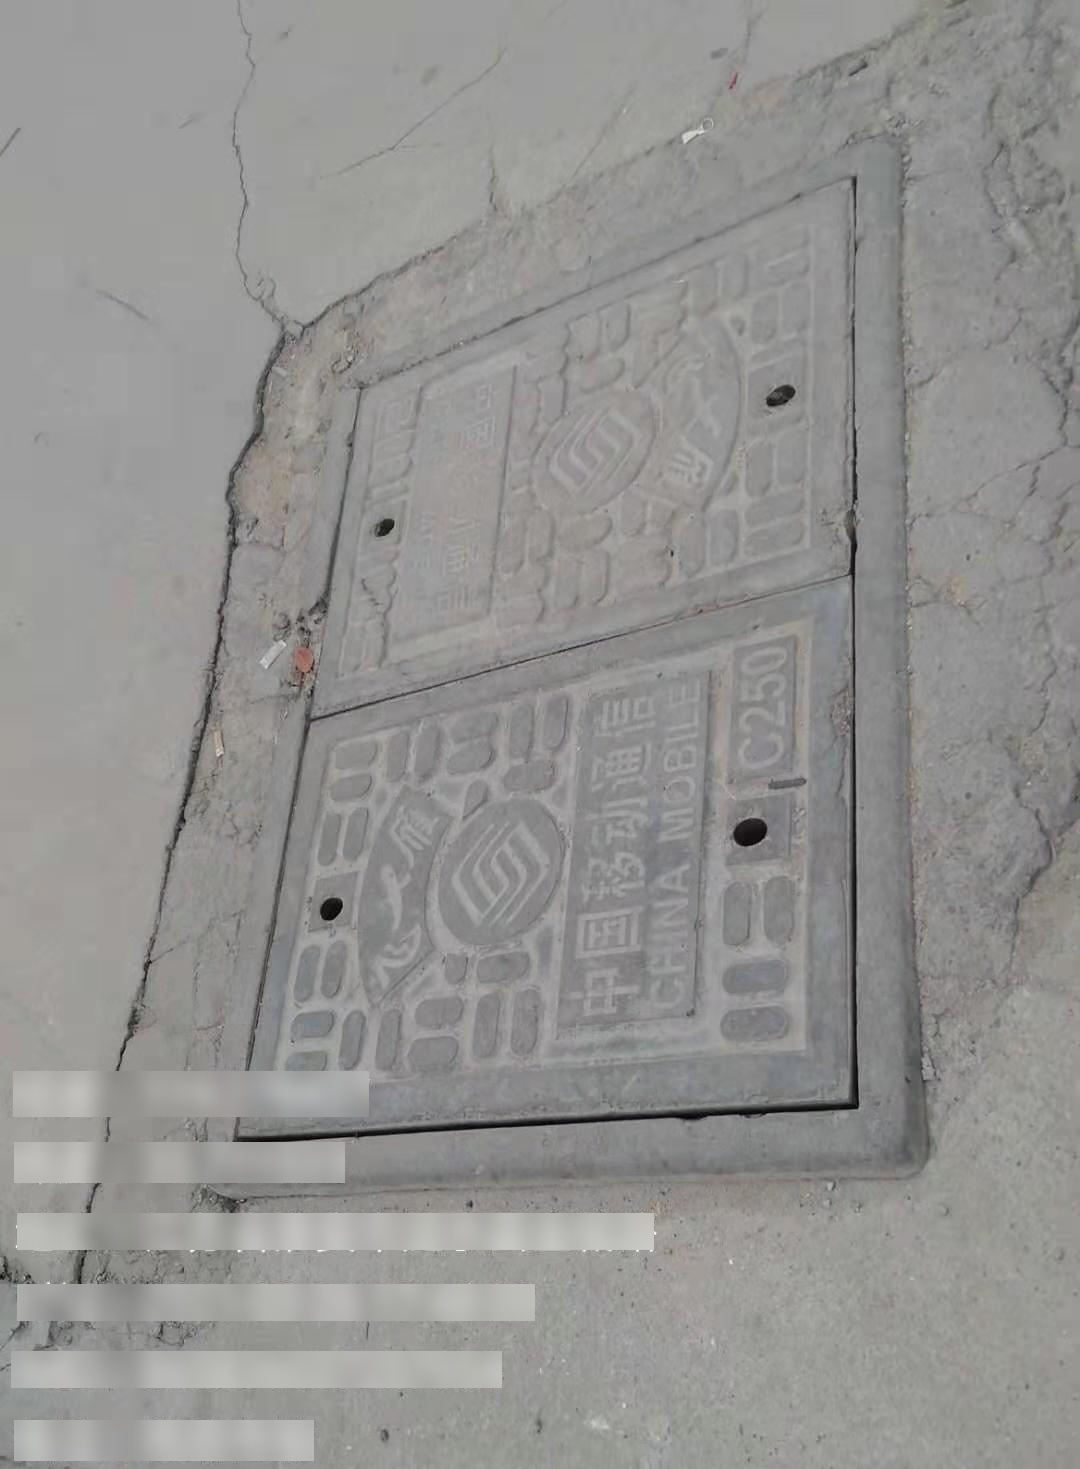good: (179, 140, 928, 1187)
